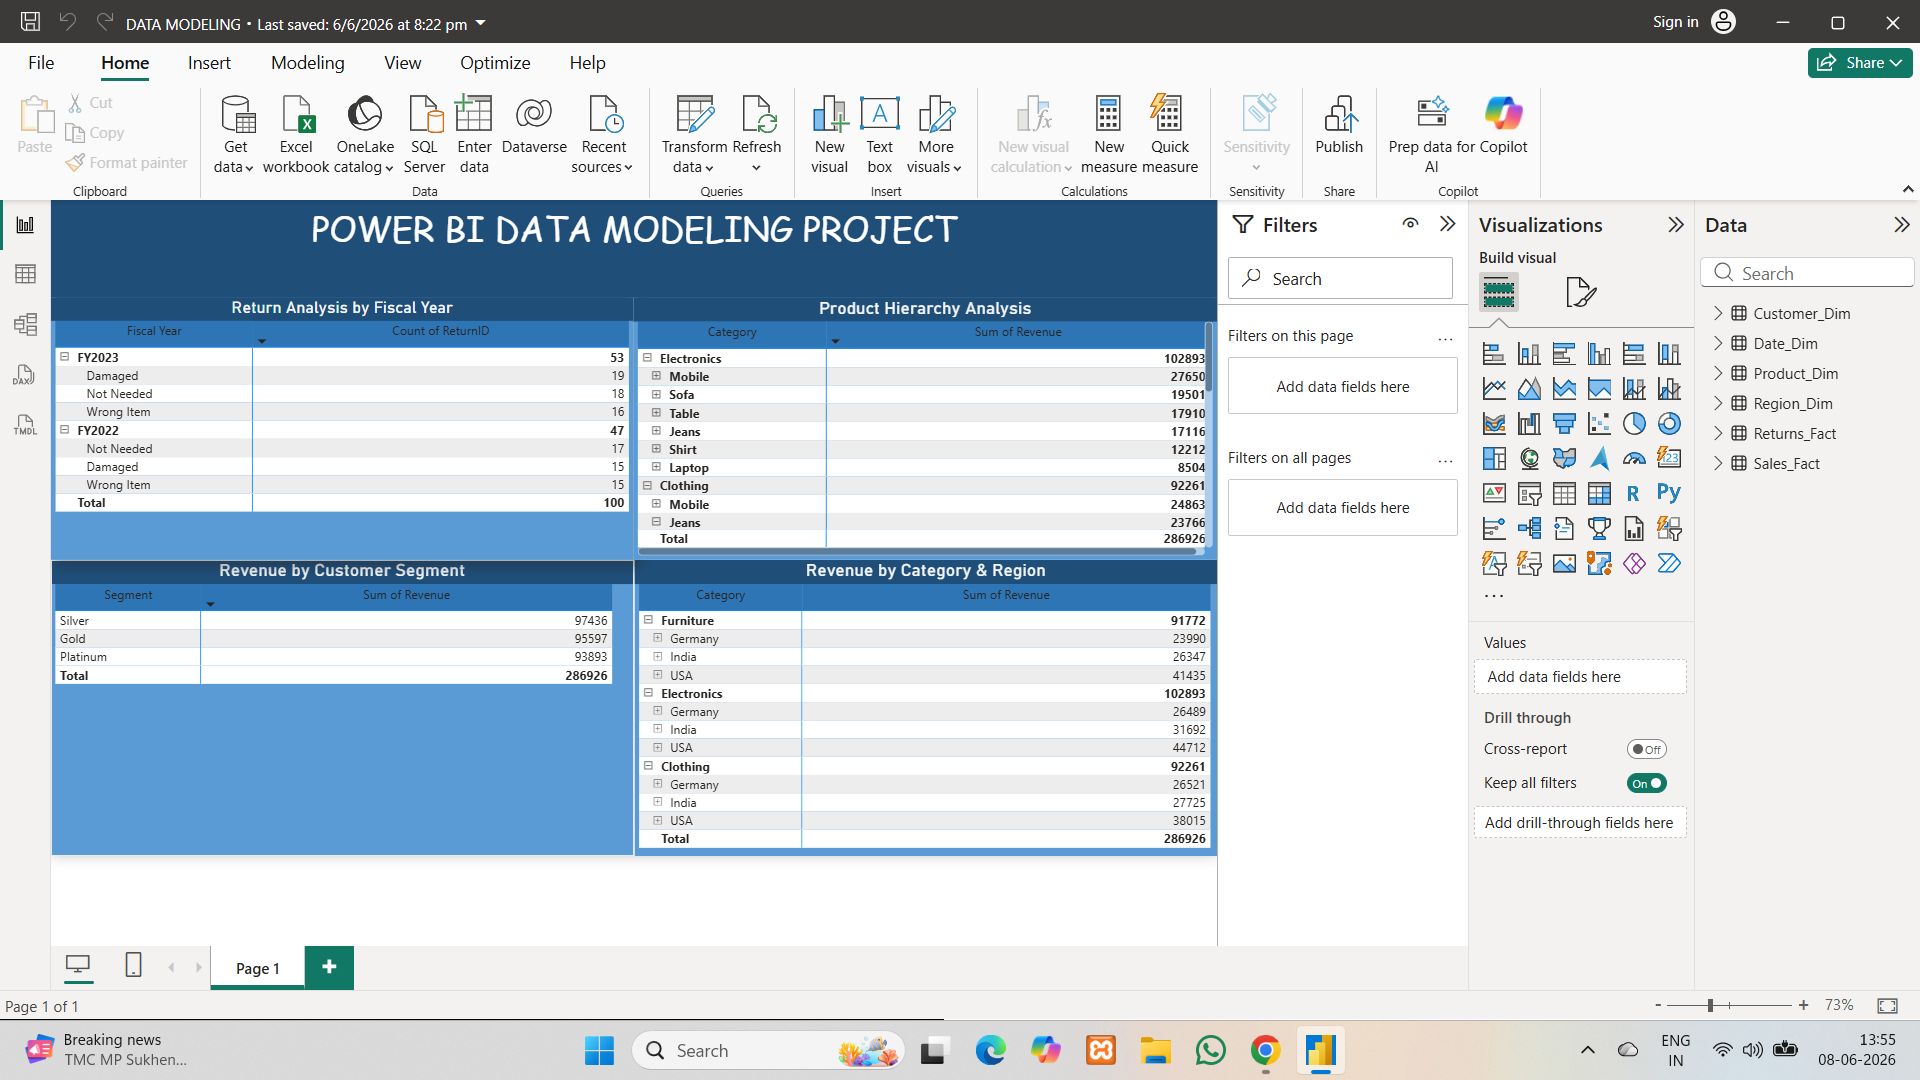

Layout of this report page (visuals, bound fields, positions):
{"tool":"powerbi","page":{"name":"Page 1","canvas":[1280,720],"ordinal":0},"visuals":[{"type":"pivotTable","title":"Revenue by Category & Region","fields":{"Rows":["Product_Dim.Category","Region_Dim.Country Hierarchy.Country","Region_Dim.Country Hierarchy.State","Region_Dim.Country Hierarchy.City"],"Values":["Sum(Sales_Fact.Revenue)"]},"box":[640.8,395.2,639.5,325.2],"z":0},{"type":"pivotTable","title":"Revenue by Customer Segment","fields":{"Rows":["Customer_Dim.Segment"],"Values":["Sum(Sales_Fact.Revenue)"]},"box":[0,395.2,639.5,325.2],"z":1000},{"type":"pivotTable","title":"Return Analysis by Fiscal Year","fields":{"Rows":["Date_Dim.Fiscal Year","Returns_Fact.Reason"],"Values":["CountNonNull(Returns_Fact.ReturnID)"]},"box":[0,107,639.5,288.2],"z":2000},{"type":"pivotTable","title":"Product Hierarchy Analysis","fields":{"Rows":["Product_Dim.Category Hierarchy.Category","Product_Dim.Category Hierarchy.Subcategory","Product_Dim.Category Hierarchy.ProductName","Region_Dim.Country Hierarchy.Country","Region_Dim.Country Hierarchy.State","Region_Dim.Country Hierarchy.City"],"Values":["Sum(Sales_Fact.Revenue)"]},"box":[639.5,107,640.8,288.2],"z":3000},{"type":"textbox","box":[0,0,1280.3,107],"z":3001}]}

Visuals, with their boxes on the page's 1280x720 design canvas (x1, y1, x2, y2). These are canvas units, not pixel positions in the 1920x1080 screenshot, which may show the page scaled, cropped or inside an application window:
"Revenue by Category & Region" pivotTable: box=[641, 395, 1280, 720]
"Revenue by Customer Segment" pivotTable: box=[0, 395, 640, 720]
"Return Analysis by Fiscal Year" pivotTable: box=[0, 107, 640, 395]
"Product Hierarchy Analysis" pivotTable: box=[640, 107, 1280, 395]
textbox: box=[0, 0, 1280, 107]
